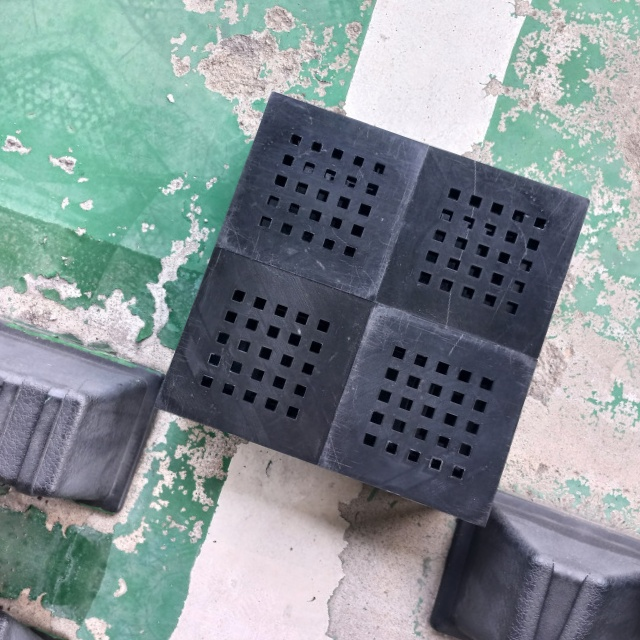pallet: (143, 75, 598, 537)
